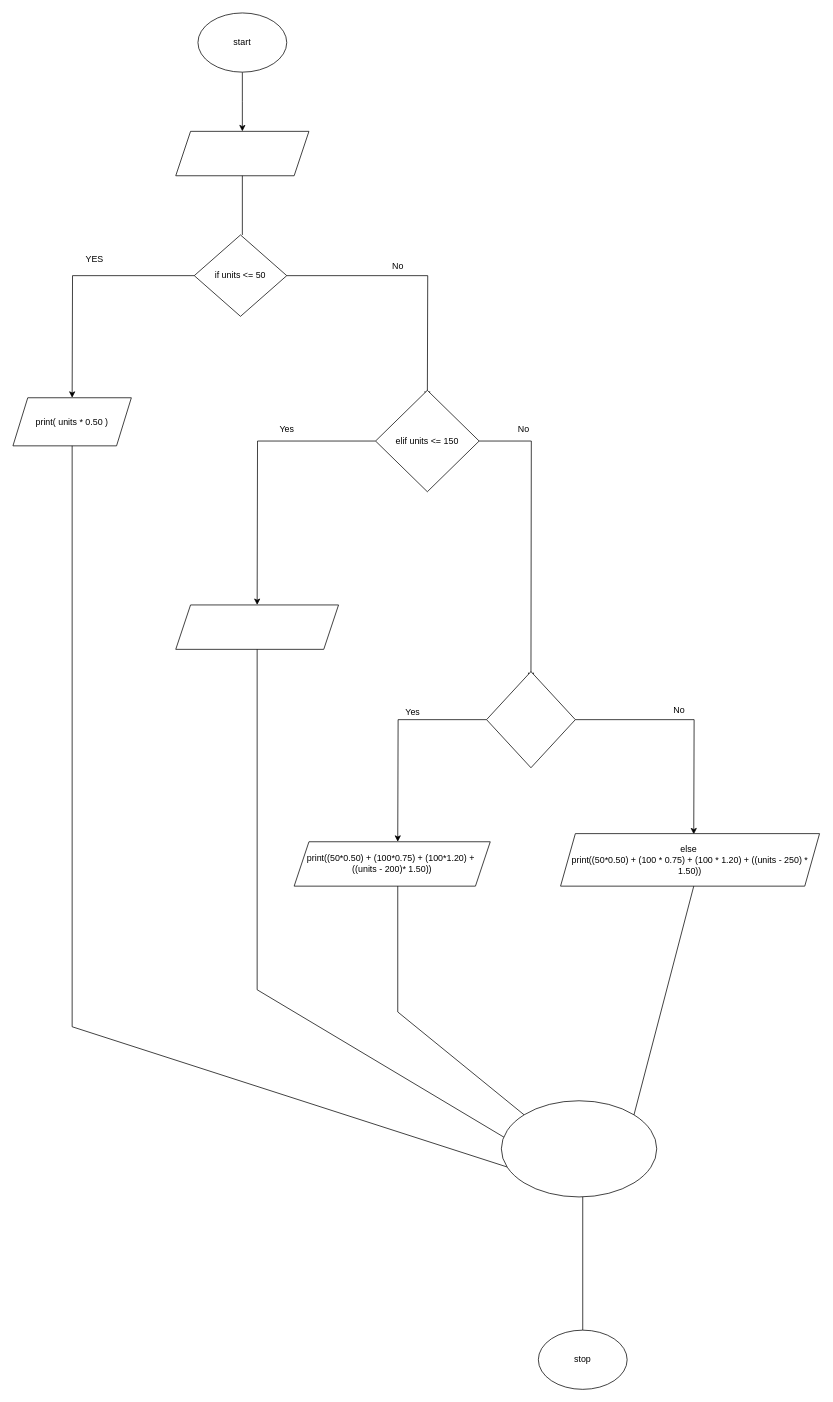
This 833x1402 diagram has some shape labels left out. The centre of each missing label's shape, as x and y in pixels:
"connector" goes at pixel 579 1148.
"elif units <= 250" goes at pixel 530 719.
"input(Enter units consumed)" goes at pixel 242 153.
"print(50*0.50) + ((units - 50) * 0.75))" goes at pixel 257 626.
